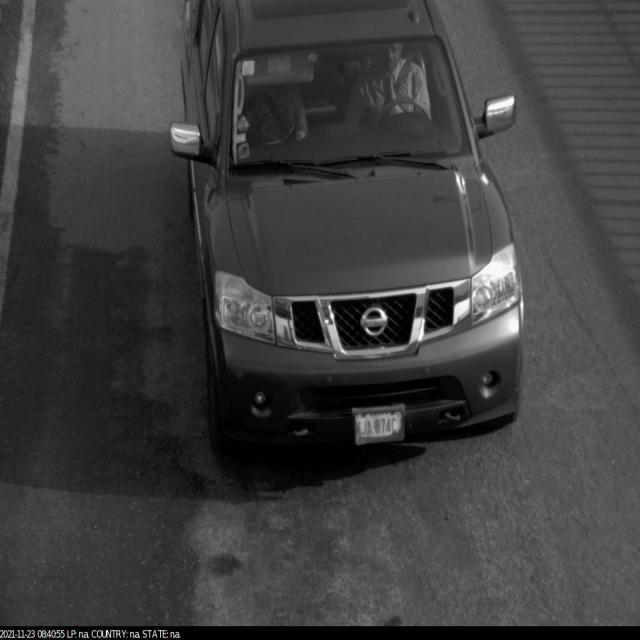windshield: (209, 13, 487, 194)
